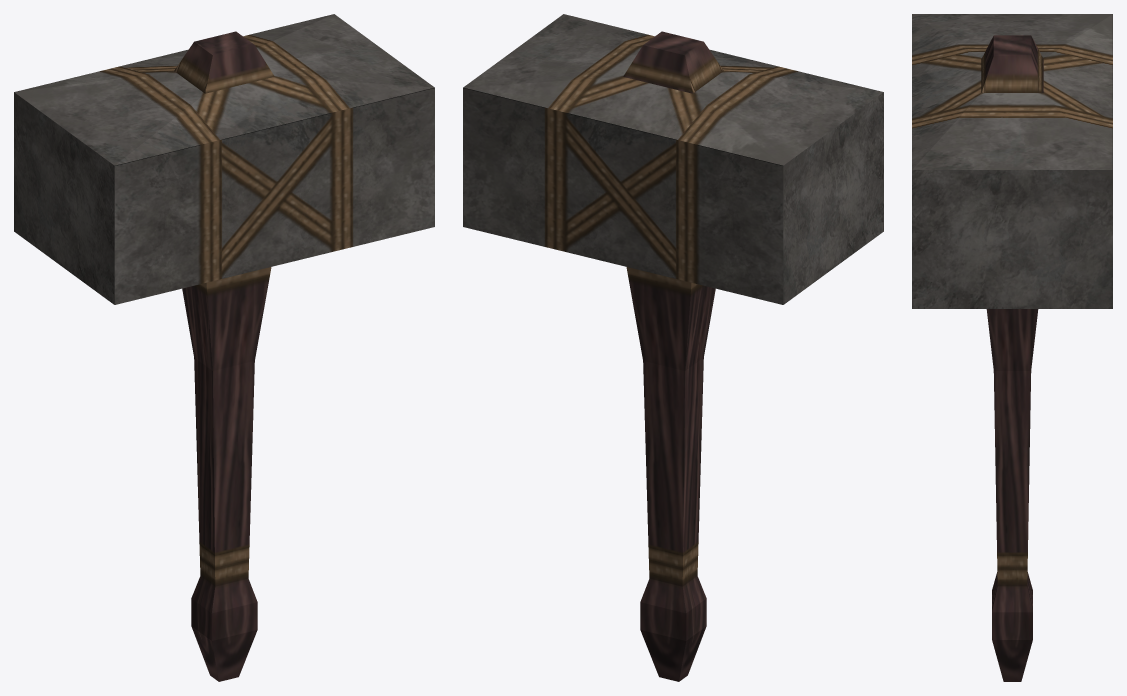
The model's file is Hammer.FBX.
3 renders of one model, left to right at view 1: azimuth 30°, elevation 25°; view 2: azimuth 150°, elevation 25°; view 3: azimuth 270°, elevation 25°, orthographic.
Visible parts, largest first — view 1: Box003; view 2: Box003; view 3: Box003.
Part boxes in pixels (left/top/right/bottom): Box003: left=14, top=14, right=434, bottom=681; Box003: left=463, top=14, right=883, bottom=681; Box003: left=912, top=14, right=1112, bottom=681.
Bounding box in the file's own units: 27.87 × 52.62 × 15.16.
